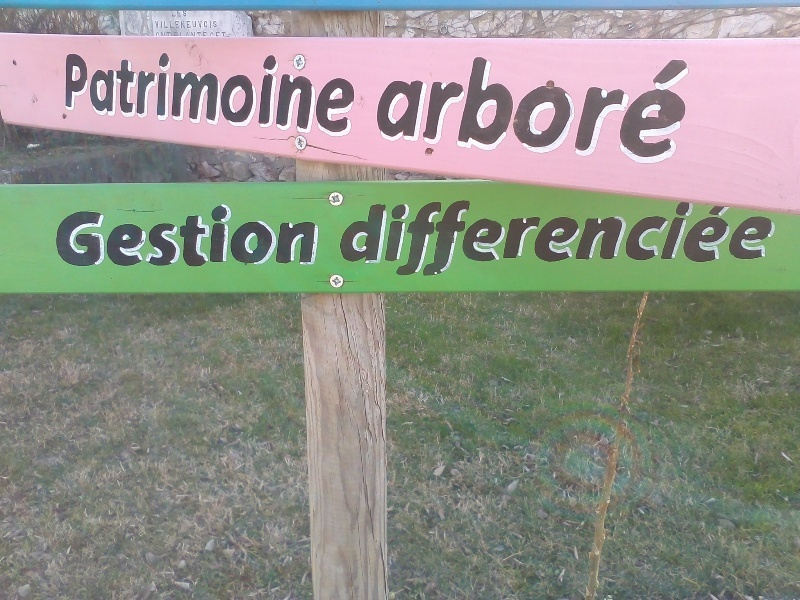text: (385, 54, 400, 170), (401, 54, 416, 170), (417, 54, 432, 170), (433, 54, 448, 170), (449, 54, 464, 170), (465, 54, 480, 170), (481, 54, 496, 170), (497, 54, 512, 170), (513, 54, 528, 170), (529, 54, 544, 170), (545, 54, 560, 170), (561, 54, 576, 170), (577, 54, 592, 170), (593, 54, 608, 170), (609, 54, 624, 170), (625, 54, 640, 170), (641, 54, 656, 170), (657, 54, 672, 170), (673, 54, 688, 170), (65, 47, 80, 145), (81, 47, 96, 145), (97, 47, 112, 145), (113, 47, 128, 145), (129, 47, 144, 145), (145, 47, 160, 145), (161, 47, 176, 145), (177, 47, 192, 145), (193, 47, 208, 145), (209, 47, 224, 145), (225, 47, 240, 145), (241, 47, 256, 145), (257, 47, 272, 145), (273, 47, 288, 145), (289, 47, 304, 145), (305, 47, 320, 145), (321, 47, 336, 145), (337, 47, 352, 145), (353, 199, 368, 277), (369, 199, 384, 277), (385, 199, 400, 277), (401, 199, 416, 277), (417, 199, 432, 277), (433, 199, 448, 277), (449, 199, 464, 277), (465, 199, 480, 277), (481, 199, 496, 277), (497, 199, 512, 277), (513, 199, 528, 277), (529, 199, 544, 277), (545, 199, 560, 277), (561, 199, 576, 277), (577, 199, 592, 277), (593, 199, 608, 277), (609, 199, 624, 277), (625, 199, 640, 277), (641, 199, 656, 277), (657, 199, 672, 277), (673, 199, 688, 277), (689, 199, 704, 277), (705, 199, 720, 277), (721, 199, 736, 277), (737, 199, 752, 277), (753, 199, 768, 277), (689, 54, 698, 170), (65, 203, 80, 270), (81, 203, 96, 270), (97, 203, 112, 270), (113, 203, 128, 270), (129, 203, 144, 270), (145, 203, 160, 270), (161, 203, 176, 270), (177, 203, 192, 270), (193, 203, 208, 270), (209, 203, 224, 270), (225, 203, 240, 270), (241, 203, 256, 270), (257, 203, 272, 270), (273, 203, 288, 270), (289, 203, 304, 270), (305, 203, 319, 270), (342, 199, 352, 277), (54, 203, 64, 270), (769, 199, 776, 277), (353, 47, 358, 145), (161, 20, 176, 29), (177, 20, 192, 29), (193, 20, 208, 29), (161, 31, 176, 38), (177, 31, 192, 38), (193, 31, 208, 38), (209, 31, 224, 38), (209, 20, 219, 29), (177, 10, 188, 18), (154, 20, 160, 29), (171, 10, 176, 18), (156, 31, 160, 38), (225, 31, 227, 38)
